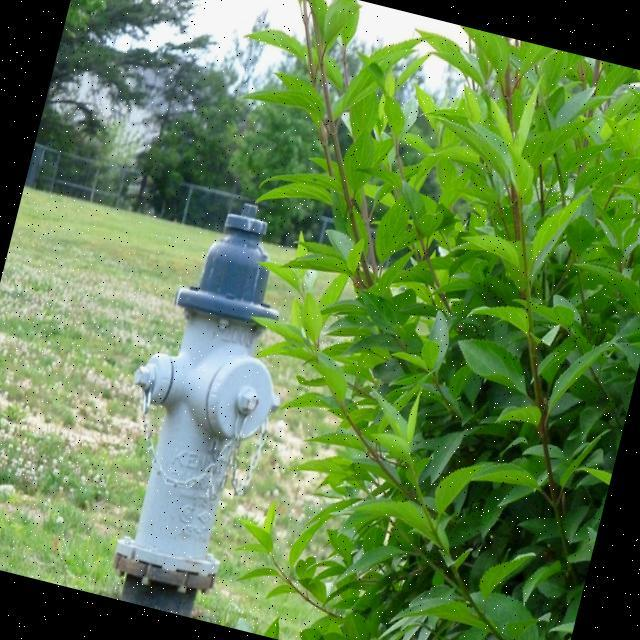fire_hydrant: (72, 180, 323, 623)
